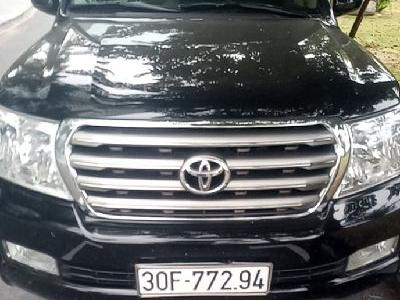number: (134, 264, 271, 298)
